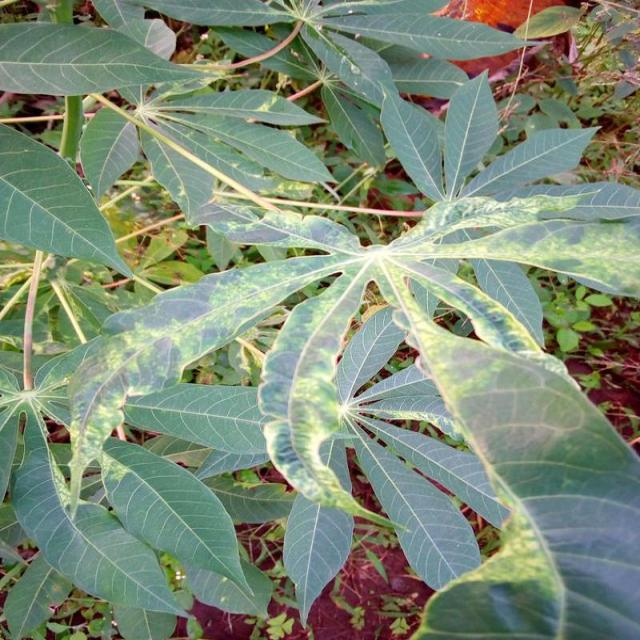cassava leaf: (0, 2, 638, 637), (0, 120, 134, 280)
